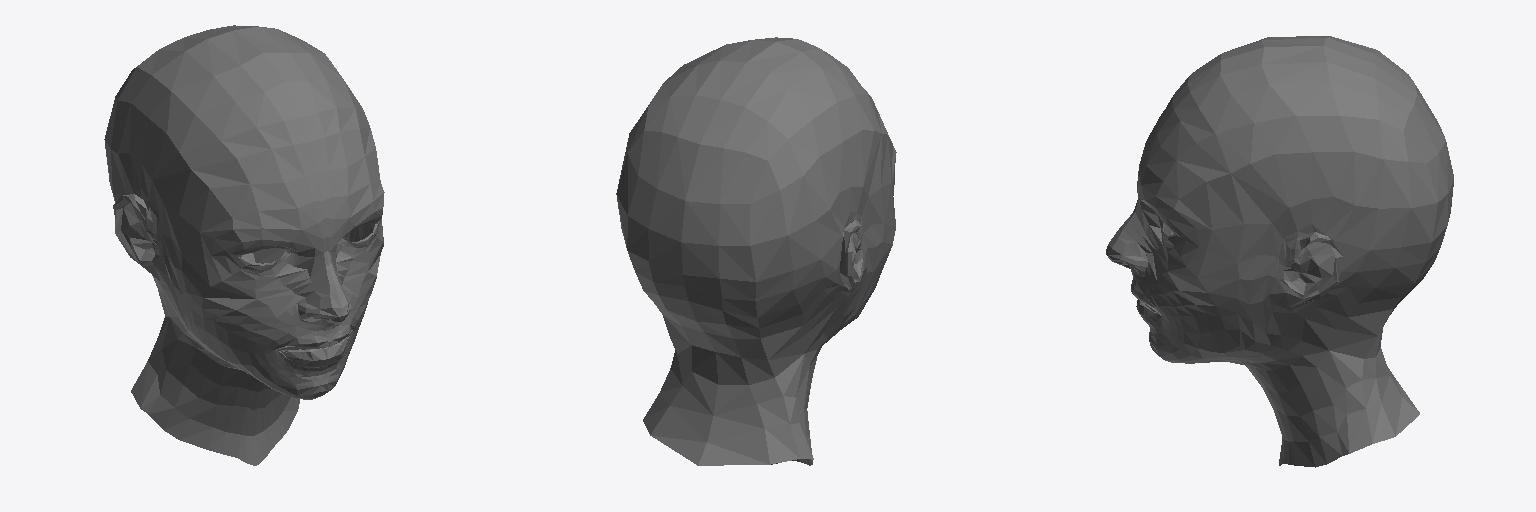
Rendered from UrsulaHeadLoPoly.obj.
3 views of the same model, side by side, from view 1: azimuth 30°, elevation 25°; view 2: azimuth 150°, elevation 25°; view 3: azimuth 270°, elevation 25° (orthographic).
Visible parts, largest first — view 1: default; view 2: default; view 3: default.
Part boxes in pixels (left/top/right/bottom): default: left=104, top=25, right=384, bottom=465; default: left=616, top=37, right=896, bottom=465; default: left=1106, top=36, right=1453, bottom=467.
Bounding box in the file's own units: 6.99 × 12.46 × 9.39.